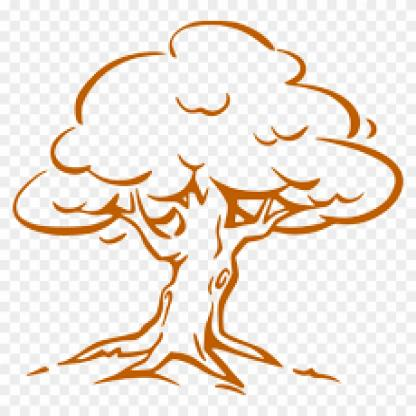branch_cut: (116, 172, 294, 262)
crown_cloud: (10, 11, 406, 246)
knot: (212, 265, 235, 290)
root_only: (54, 322, 286, 392)
trunk_bark: (148, 271, 247, 323)
